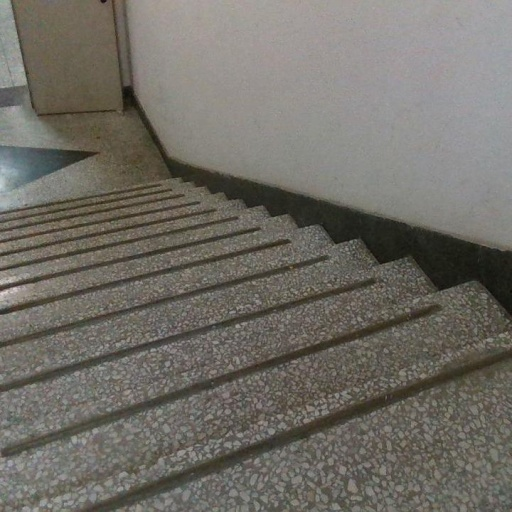Stairs: (0, 179, 512, 512)
